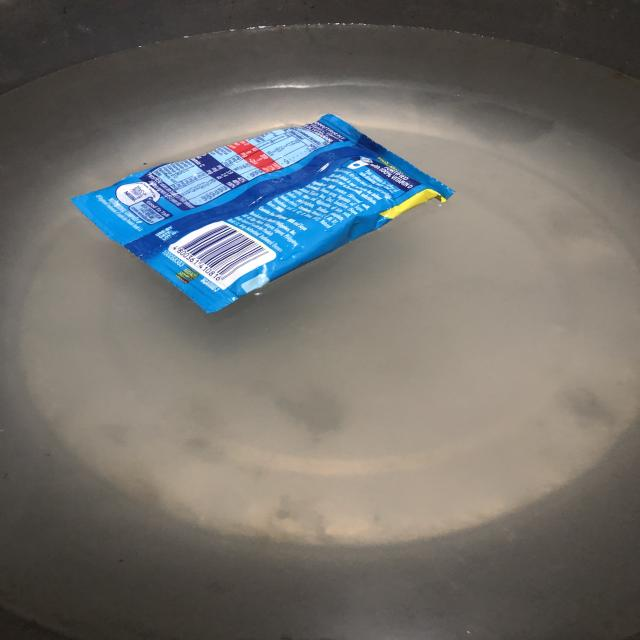Plastic Wrapper: (78, 110, 450, 312)
